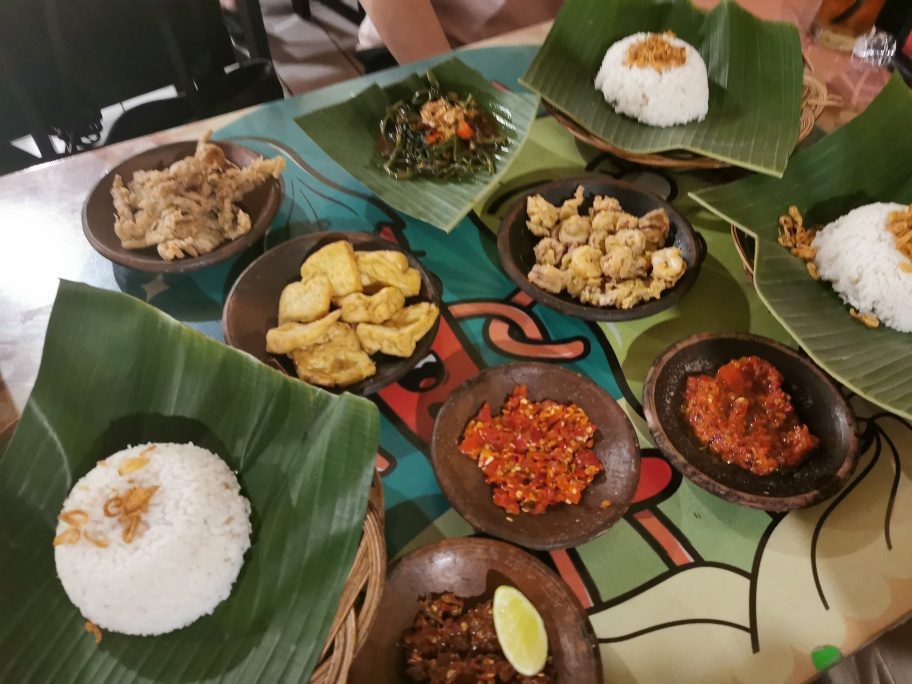nasi putih: (57, 438, 254, 638), (595, 28, 712, 129)
